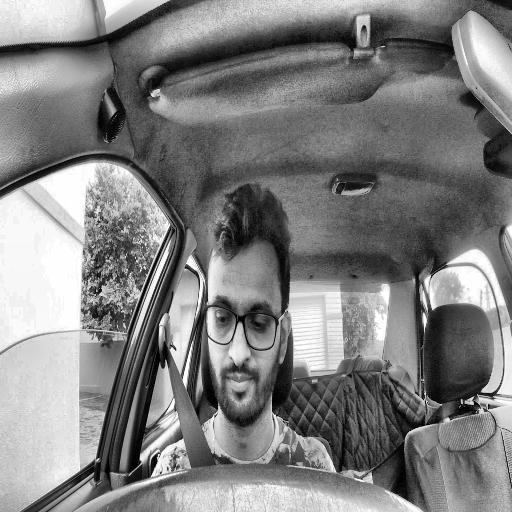awake: (204, 181, 292, 432)
